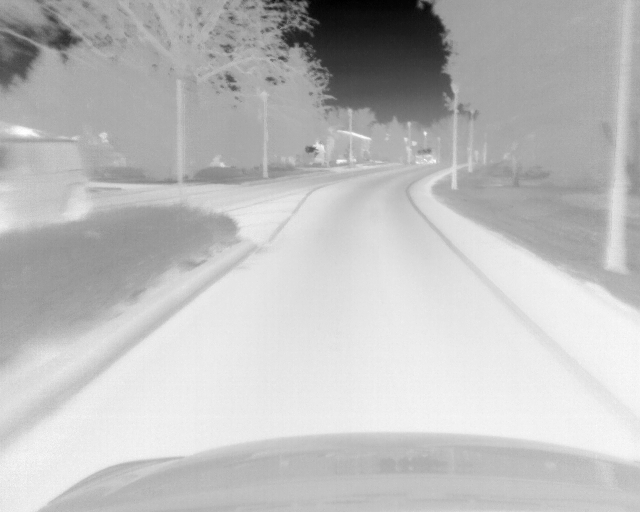car: (1, 135, 92, 227), (415, 146, 437, 165)
